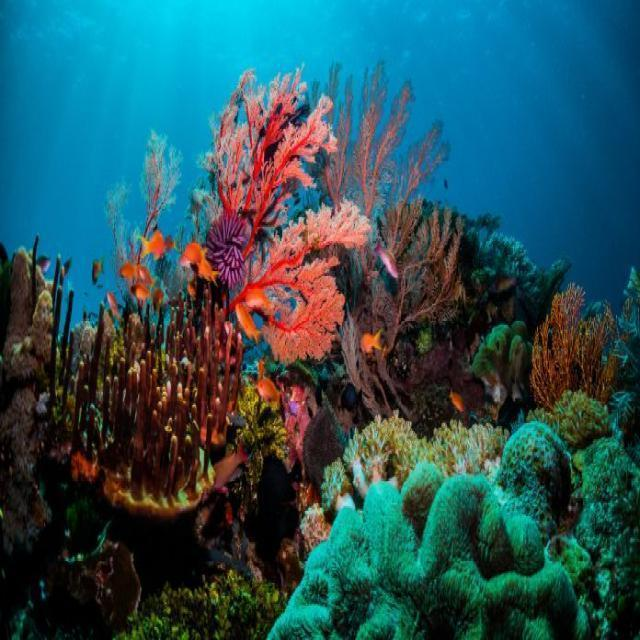Healthy Coral: (112, 44, 478, 376), (60, 253, 260, 537), (290, 399, 499, 502), (540, 280, 639, 442)
